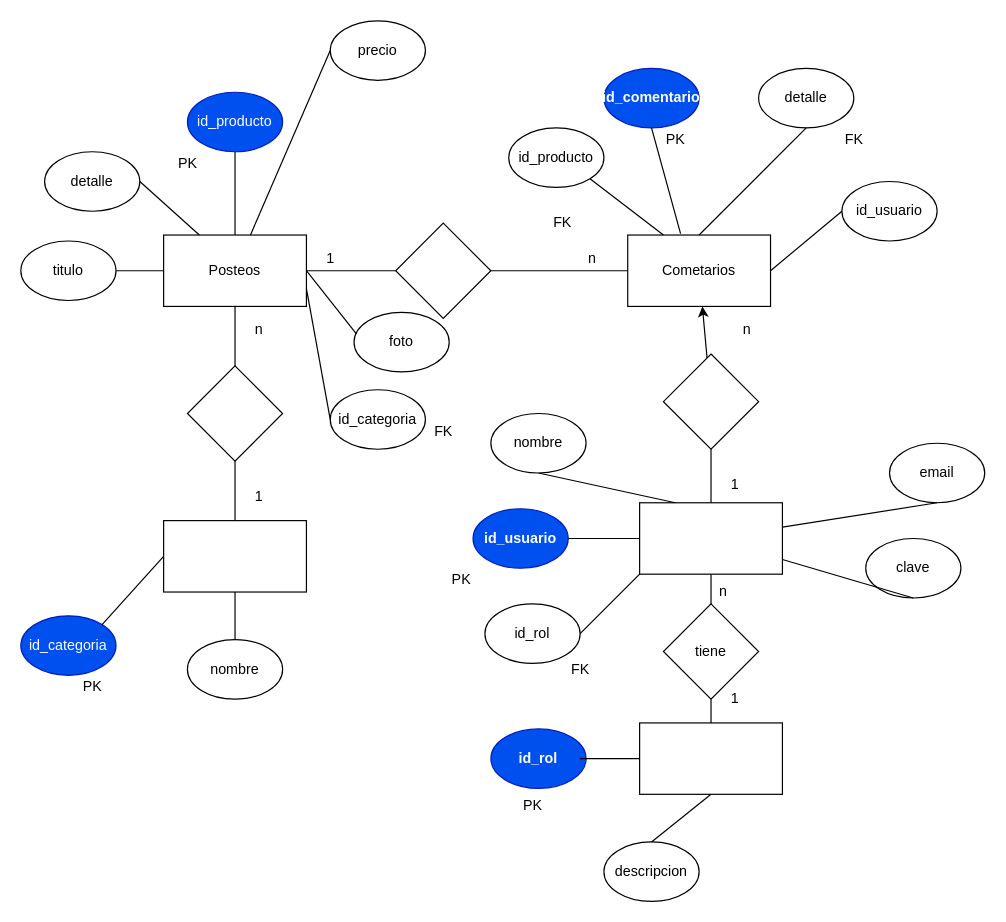
Image size: 1006x922. Some labels were removed from this diagram. The shapes that lost their labels are listed below. From the top down, each one's centre as x and y in pixels, then its label:
At point 234,413: "pertenece".
At point 234,555: "Categorias".
At point 710,538: "Usuarios".
At point 710,758: "Roles".
